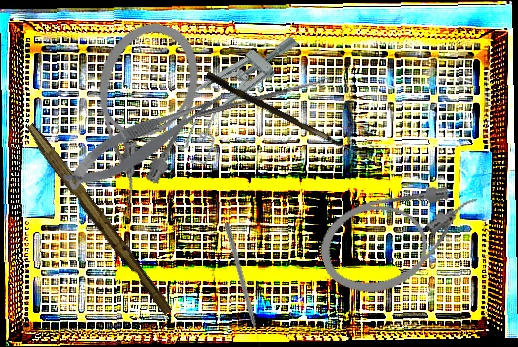Cannula: (67, 12, 213, 213), (310, 169, 495, 307)
Hook Surgical: (203, 71, 383, 166)
Micro Scissor: (55, 84, 239, 197)
Pusher: (222, 222, 263, 347)
Scalpel Handle: (20, 122, 177, 317)
Speculum: (156, 12, 308, 171)
Surgical Spoon: (194, 77, 331, 119)
